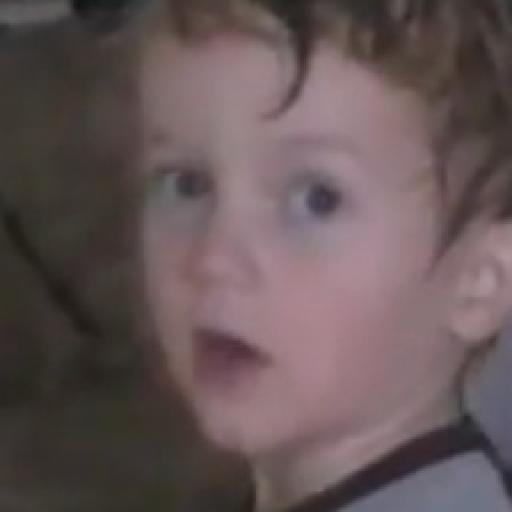Autism: (110, 1, 512, 478)
